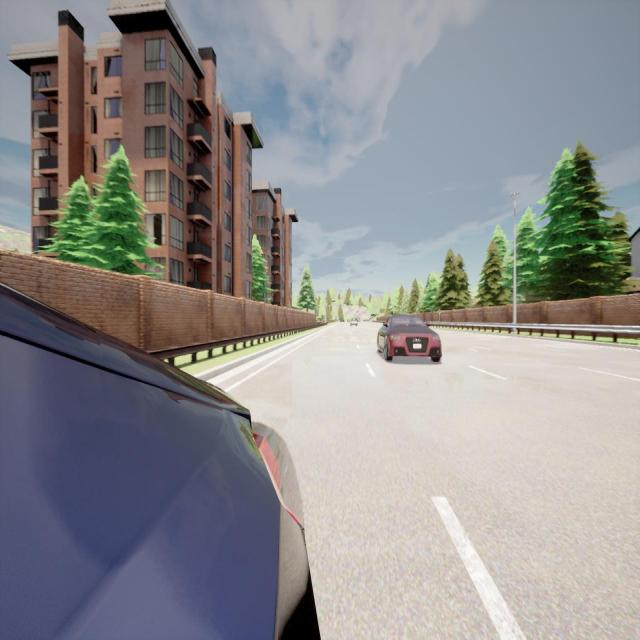Vehicle: (0, 284, 318, 638), (377, 314, 441, 361), (349, 318, 358, 327)
